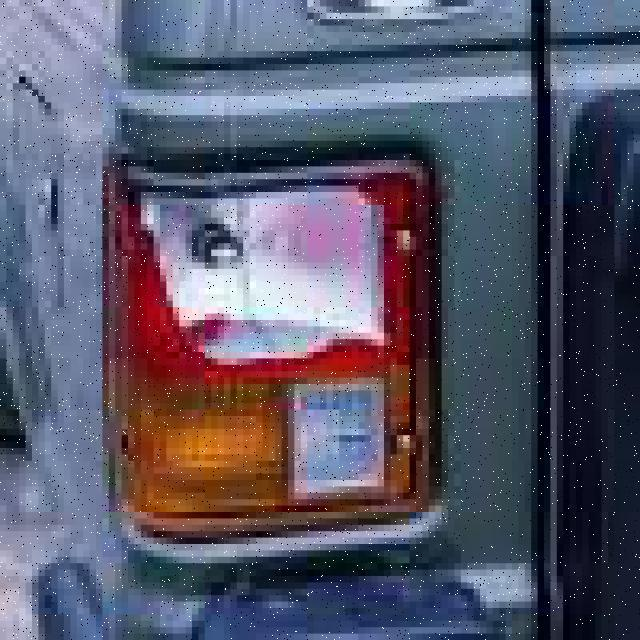Taillight-Damage: (64, 90, 480, 570)
